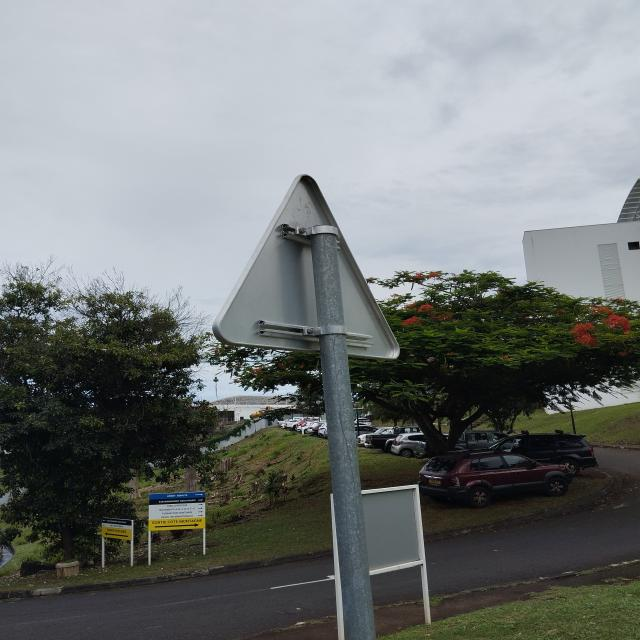Panneau: (219, 165, 410, 363)
